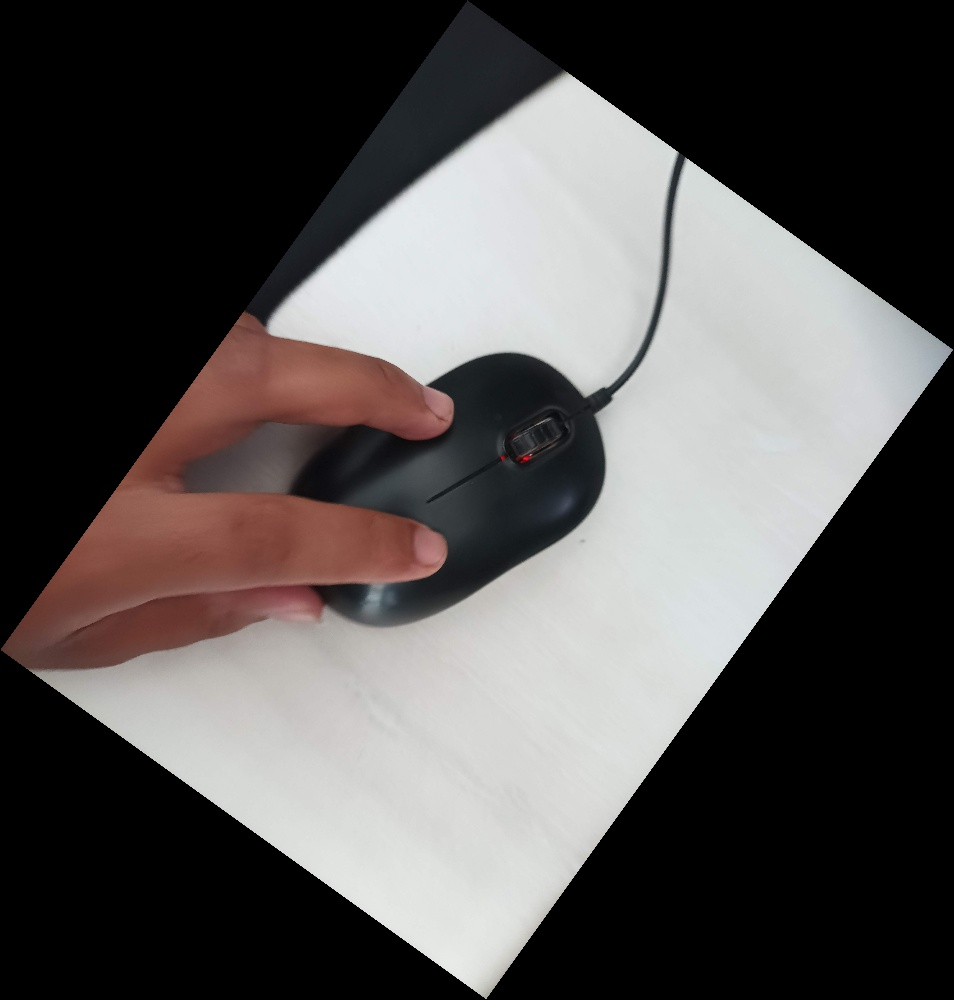mouse: (277, 346, 610, 632)
